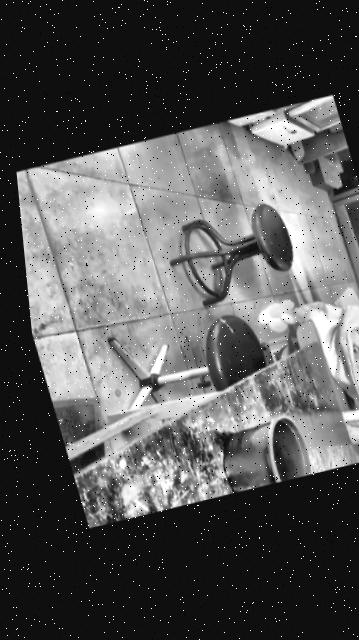pot: (211, 410, 315, 494)
